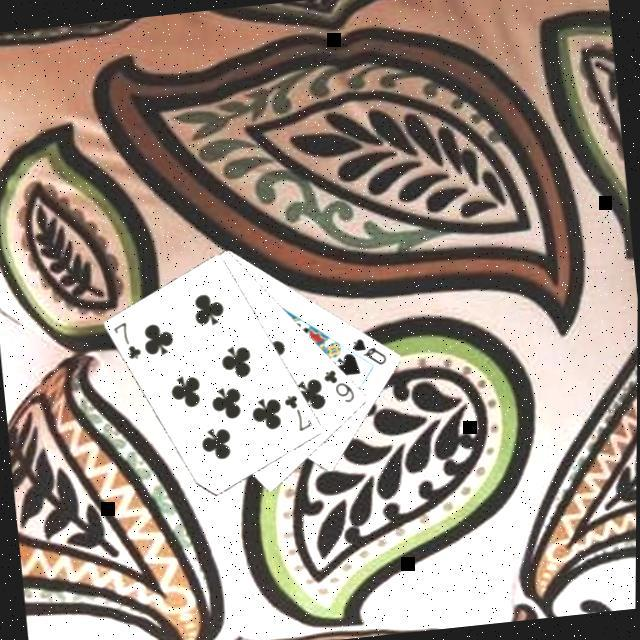6C: (318, 365, 357, 410)
7C: (108, 319, 144, 367), (278, 391, 314, 438)
QS: (347, 334, 390, 373)
